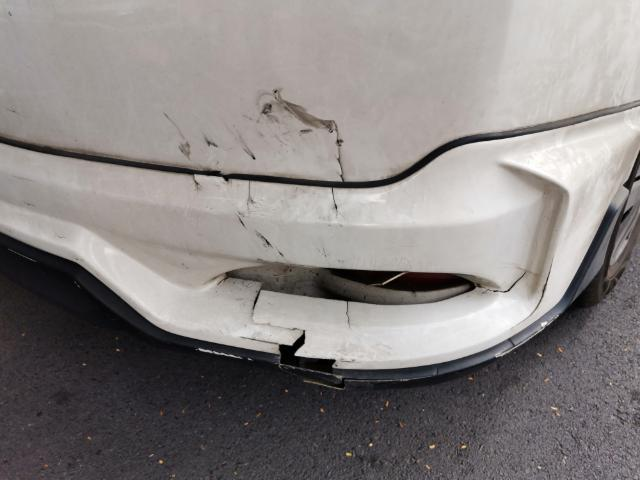crack: (240, 283, 438, 391), (510, 254, 554, 329), (476, 271, 528, 296), (334, 129, 345, 181), (331, 188, 347, 222), (191, 173, 201, 191), (246, 180, 251, 215), (345, 302, 350, 332)
no part: (230, 261, 476, 308)
scratch: (158, 85, 336, 169)
